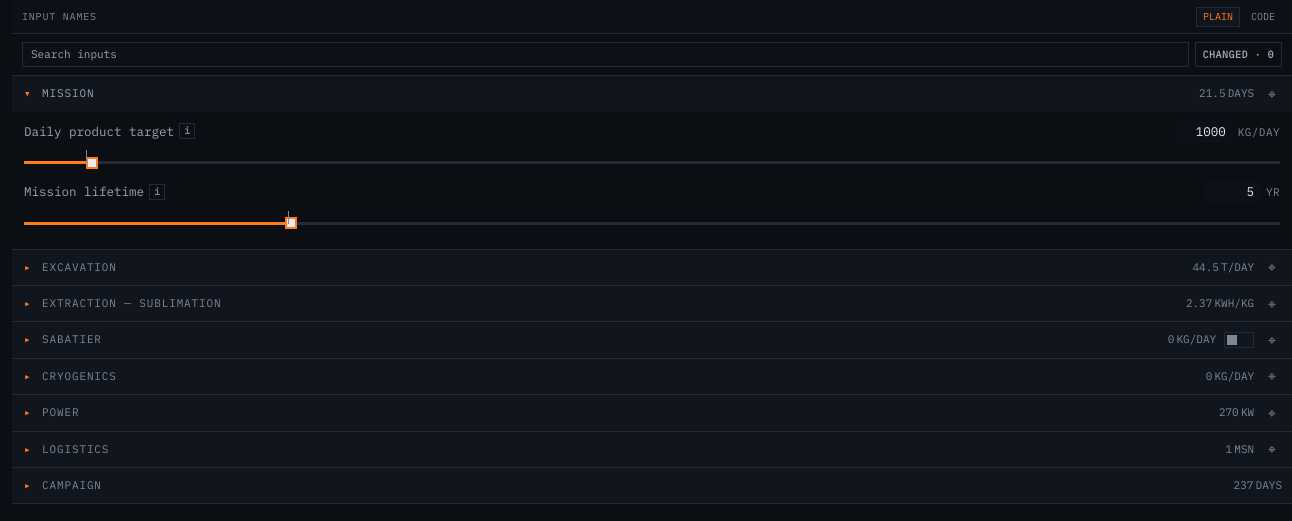
Test case: control rail search, changed filter, and reset › does not count a changed slider in a gated-off group
What coordinates should you click on to do the following:
click the button "CHANGED · 0"
I would click on:
 (1238, 55)
Its box is 1194,42 -> 1282,67.
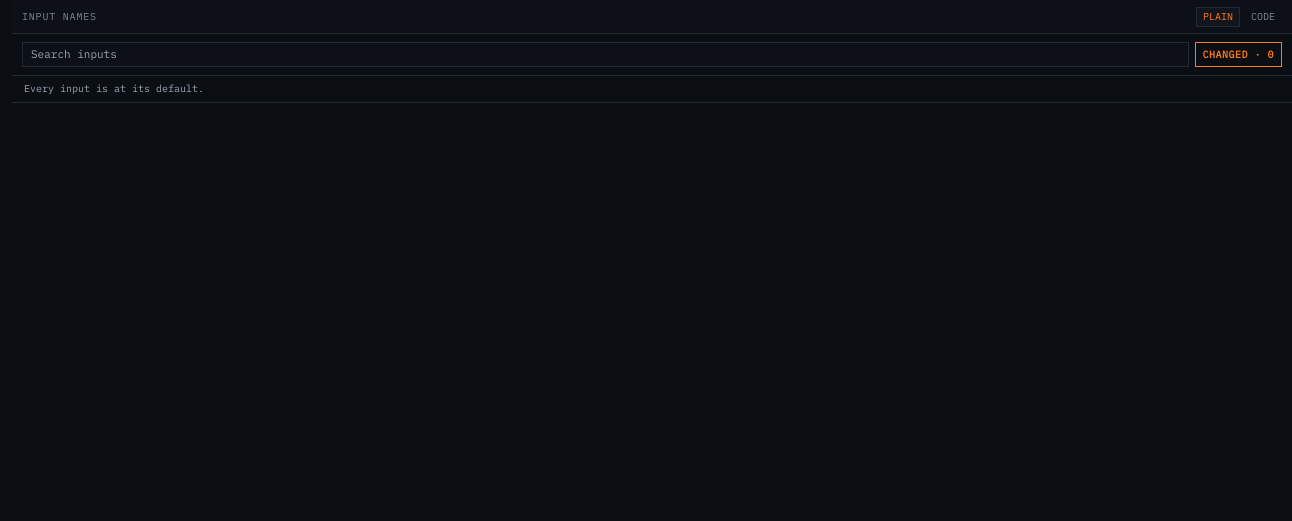
Expected: the text "Every input is at its default." is shown, 12,76 -> 1291,103
